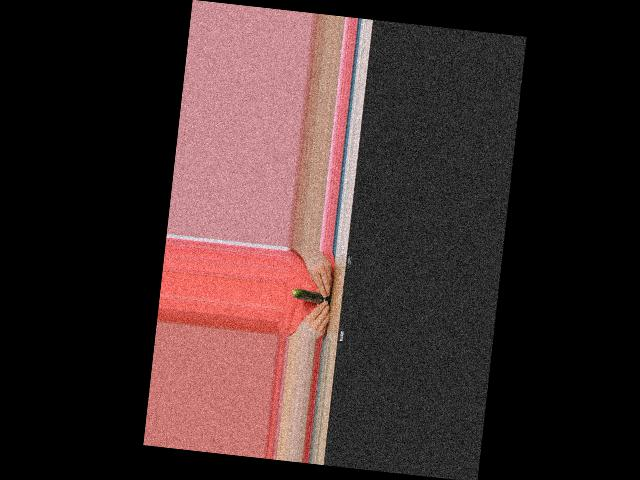cucumber: (291, 287, 331, 304)
